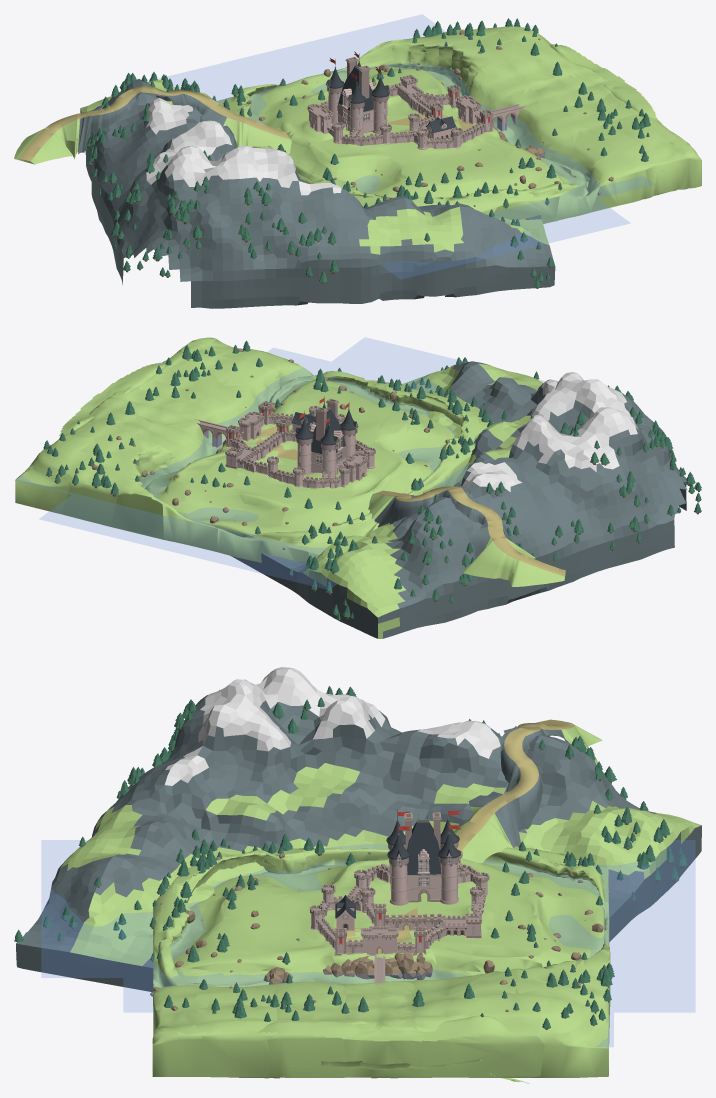
The model's file is level.glb.
3 renders of one model, top to bottom at view 1: azimuth 30°, elevation 25°; view 2: azimuth 150°, elevation 25°; view 3: azimuth 270°, elevation 25°, orthographic. The views are drawn at different scales.
Visible parts, largest first — view 1: BACKDROP, CHUNK_-011_-005, CHUNK_-010_-005, CHUNK_-015_-002, CHUNK_-015_-001, CHUNK_-014_-002, CHUNK_-011_-001, CHUNK_-011_+000, CHUNK_-013_-005, CHUNK_-012_+001, CHUNK_-011_-004, CHUNK_-012_-005 (+37 smaller); view 2: BACKDROP, CHUNK_-011_+001, CHUNK_-013_+001, CHUNK_-010_+001, CHUNK_-015_-001, CHUNK_-014_+001, CHUNK_-014_-001, CHUNK_-019_+001, CHUNK_-014_+000, CHUNK_-015_+001, CHUNK_-013_+000, CHUNK_-011_+000 (+44 smaller); view 3: BACKDROP, CHUNK_-014_-001, CHUNK_-016_+000, CHUNK_-012_-002, CHUNK_-009_-004, CHUNK_-009_-003, CHUNK_-009_-001, CHUNK_-010_+001, CHUNK_-009_+000, CHUNK_-014_-002, CHUNK_-012_-001, CHUNK_-012_-004 (+48 smaller).
Boxes of the visible parts, bbox=[...] form: BACKDROP: bbox=[80, 14, 657, 308]; CHUNK_-011_-005: bbox=[584, 149, 651, 212]; CHUNK_-010_-005: bbox=[629, 136, 700, 196]; CHUNK_-015_-002: bbox=[308, 74, 382, 175]; CHUNK_-015_-001: bbox=[280, 58, 352, 146]; CHUNK_-014_-002: bbox=[357, 69, 427, 153]; CHUNK_-011_-001: bbox=[472, 54, 552, 107]; CHUNK_-011_+000: bbox=[448, 37, 512, 95]; CHUNK_-013_-005: bbox=[493, 176, 559, 223]; CHUNK_-012_+001: bbox=[363, 29, 441, 72]; CHUNK_-011_-004: bbox=[555, 123, 637, 183]; CHUNK_-012_-005: bbox=[537, 164, 603, 221]; BACKDROP: bbox=[15, 337, 689, 638]; CHUNK_-011_+001: bbox=[62, 443, 139, 526]; CHUNK_-013_+001: bbox=[162, 485, 244, 551]; CHUNK_-010_+001: bbox=[15, 440, 93, 514]; CHUNK_-015_-001: bbox=[319, 406, 391, 501]; CHUNK_-014_+001: bbox=[215, 503, 286, 561]; CHUNK_-014_-001: bbox=[267, 398, 346, 479]; CHUNK_-019_+001: bbox=[462, 521, 524, 586]; CHUNK_-014_+000: bbox=[234, 456, 316, 510]; CHUNK_-015_+001: bbox=[256, 510, 336, 562]; CHUNK_-013_+000: bbox=[186, 449, 267, 495]; CHUNK_-011_+000: bbox=[94, 431, 170, 488]; BACKDROP: bbox=[16, 667, 701, 1083]; CHUNK_-014_-001: bbox=[383, 812, 473, 917]; CHUNK_-016_+000: bbox=[469, 797, 543, 874]; CHUNK_-012_-002: bbox=[332, 926, 406, 984]; CHUNK_-009_-004: bbox=[187, 1029, 276, 1078]; CHUNK_-009_-003: bbox=[262, 1031, 349, 1078]; CHUNK_-009_-001: bbox=[386, 1026, 503, 1078]; CHUNK_-010_+001: bbox=[535, 989, 608, 1075]; CHUNK_-009_+000: bbox=[454, 1031, 544, 1077]; CHUNK_-014_-002: bbox=[336, 821, 426, 917]; CHUNK_-012_-001: bbox=[402, 926, 480, 980]; CHUNK_-012_-004: bbox=[190, 938, 279, 986].
Bounding box in the file's own units: 412 × 91.72 × 363.
